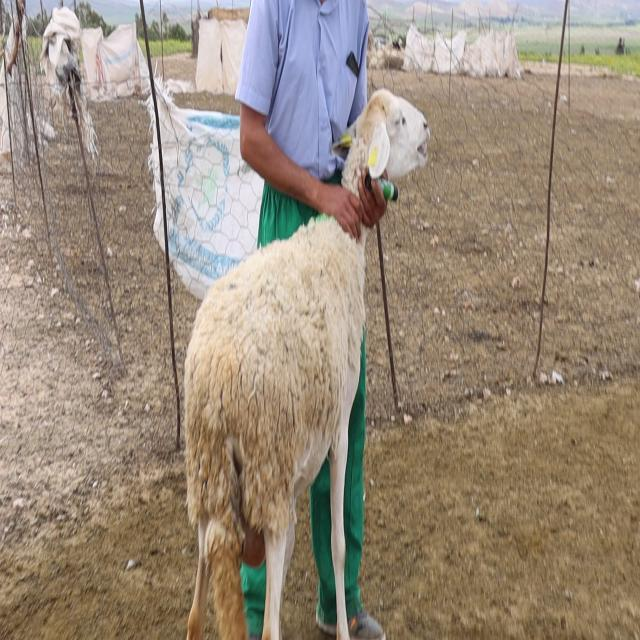Score_2: (184, 218, 369, 639)
